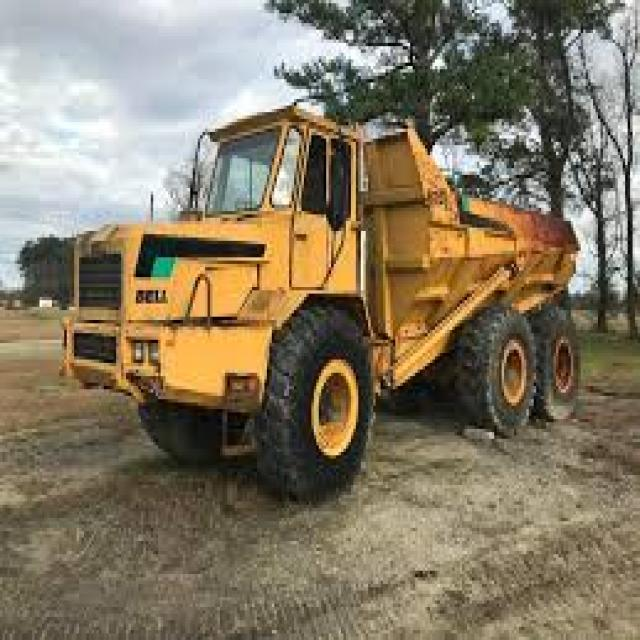dump_truck: (47, 86, 573, 518)
